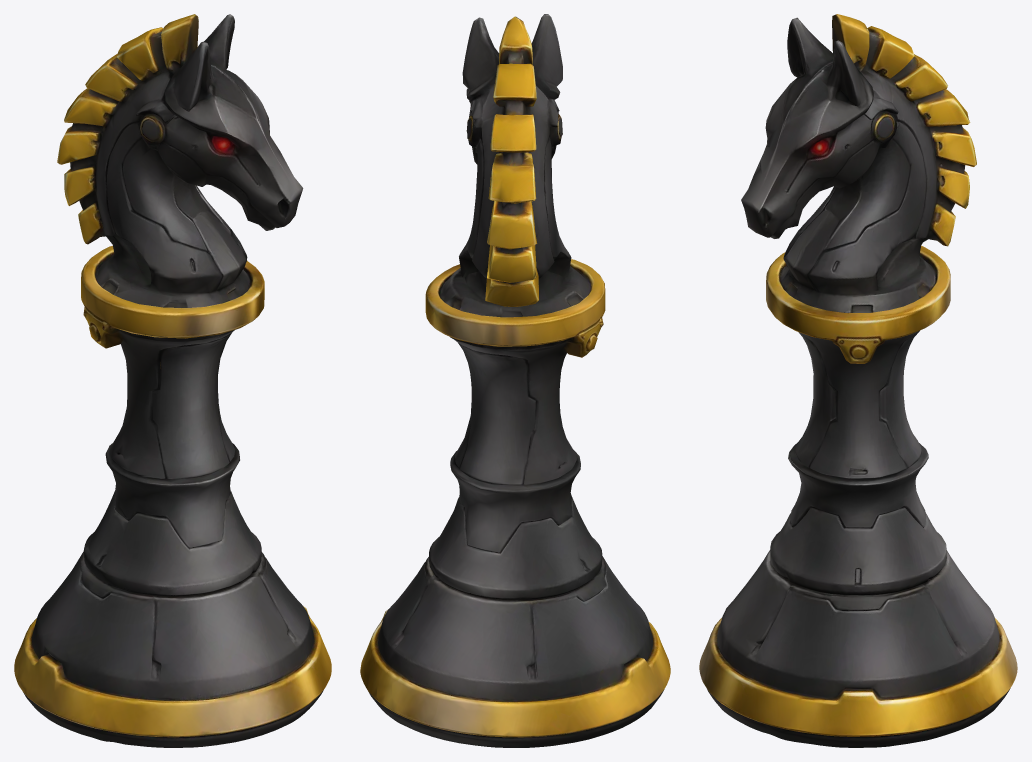
The model's file is knight_chess.glb.
3 views of the same model, side by side, from view 1: azimuth 30°, elevation 25°; view 2: azimuth 150°, elevation 25°; view 3: azimuth 270°, elevation 25° (orthographic). The views are drawn at different scales.
Visible parts, largest first — view 1: tripo_node_8c17e13a-f66a-491f-a1b0-7721c53b1ef7; view 2: tripo_node_8c17e13a-f66a-491f-a1b0-7721c53b1ef7; view 3: tripo_node_8c17e13a-f66a-491f-a1b0-7721c53b1ef7.
Boxes of the visible parts, left/top/right/bottom form: tripo_node_8c17e13a-f66a-491f-a1b0-7721c53b1ef7: left=14, top=14, right=331, bottom=747; tripo_node_8c17e13a-f66a-491f-a1b0-7721c53b1ef7: left=360, top=14, right=670, bottom=747; tripo_node_8c17e13a-f66a-491f-a1b0-7721c53b1ef7: left=699, top=14, right=1017, bottom=747.
Size of the model in its own units: 0.4258 by 1 by 0.425.
1 material, 1 textured.
